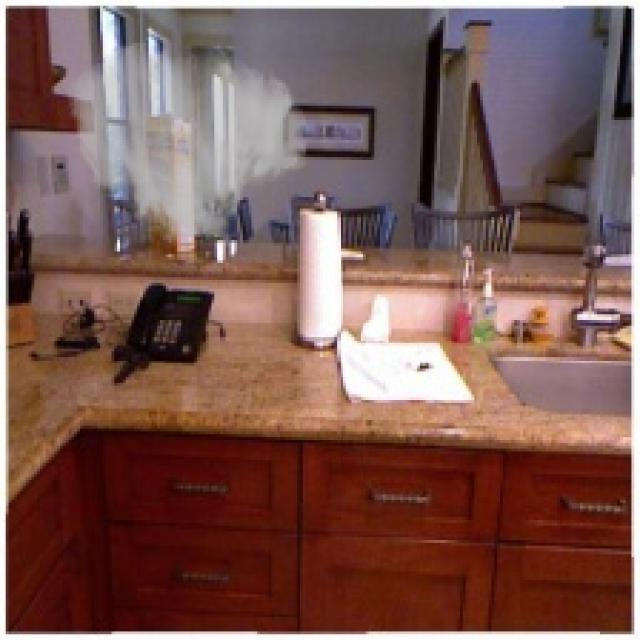Smoke: (66, 40, 312, 252)
